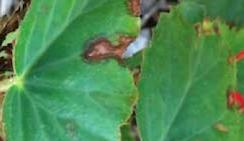Tomato leaf bacterial spot: (0, 0, 176, 141)
